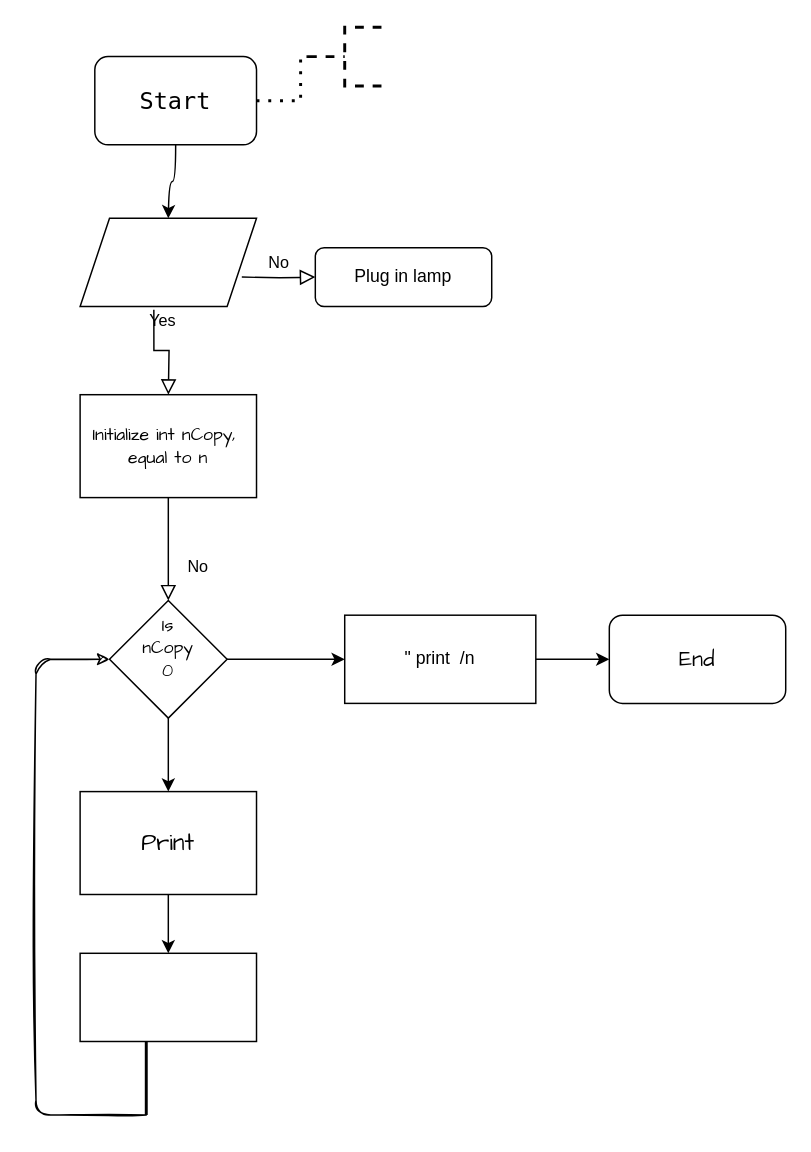
The diagram is 811 pixels wide and 1152 high, and some of its shapes have lost their labels. Each missing label, with the centre of its shape:
"Decrease nCopy by 1" belongs at (168,996).
"Function void print_line(int n)" belongs at (344,56).
"Input: in t" belongs at (168,261).
